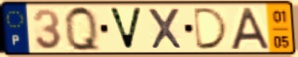3: (31, 7, 64, 52)
A: (228, 6, 272, 52)
D: (192, 6, 231, 51)
Q: (62, 3, 103, 54)
V: (107, 6, 145, 52)
X: (146, 7, 186, 51)
